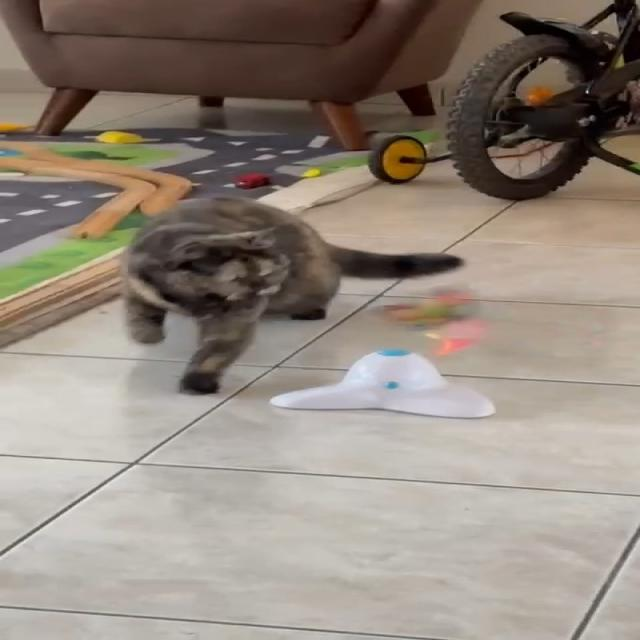authorized: (117, 194, 464, 394)
